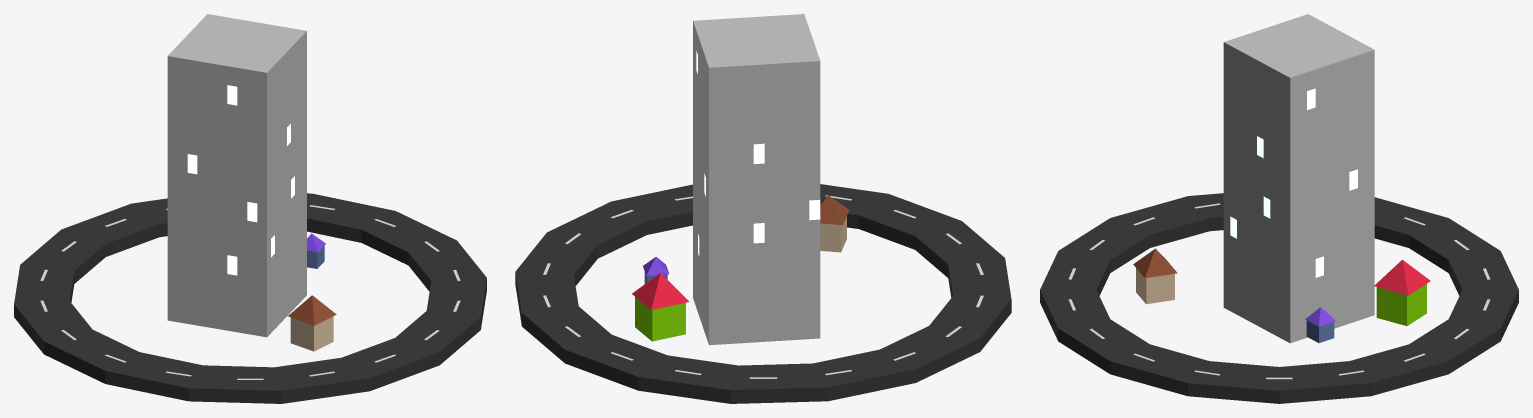
File: city_05_1.fbx
3 views of the same model, side by side, from view 1: azimuth 30°, elevation 25°; view 2: azimuth 150°, elevation 25°; view 3: azimuth 270°, elevation 25° (orthographic). The views are drawn at different scales.
Parts seen in each view (by area): view 1: skyscraper, street.001, houseHerEx, laneMarkings, houseLoser; view 2: skyscraper, street.001, houseHerBestFriend, houseHerEx, laneMarkings; view 3: skyscraper, street.001, houseHerBestFriend, houseHerEx, laneMarkings, houseLoser.
Boxes of the visible parts, bbox=[...] form: skyscraper: bbox=[167, 14, 306, 337]; street.001: bbox=[14, 193, 486, 403]; houseHerEx: bbox=[288, 295, 336, 351]; laneMarkings: bbox=[40, 205, 460, 379]; houseLoser: bbox=[307, 233, 325, 268]; skyscraper: bbox=[693, 14, 820, 345]; street.001: bbox=[515, 184, 1011, 403]; houseHerBestFriend: bbox=[632, 273, 689, 341]; houseHerEx: bbox=[820, 195, 849, 252]; laneMarkings: bbox=[543, 195, 983, 378]; skyscraper: bbox=[1223, 14, 1374, 343]; street.001: bbox=[1040, 193, 1518, 403]; houseHerBestFriend: bbox=[1374, 259, 1430, 325]; houseHerEx: bbox=[1133, 248, 1177, 304]; laneMarkings: bbox=[1068, 203, 1490, 379]; houseLoser: bbox=[1305, 307, 1335, 342].
Bounding box in the file's own units: 86.3 × 52.8 × 86.3.
